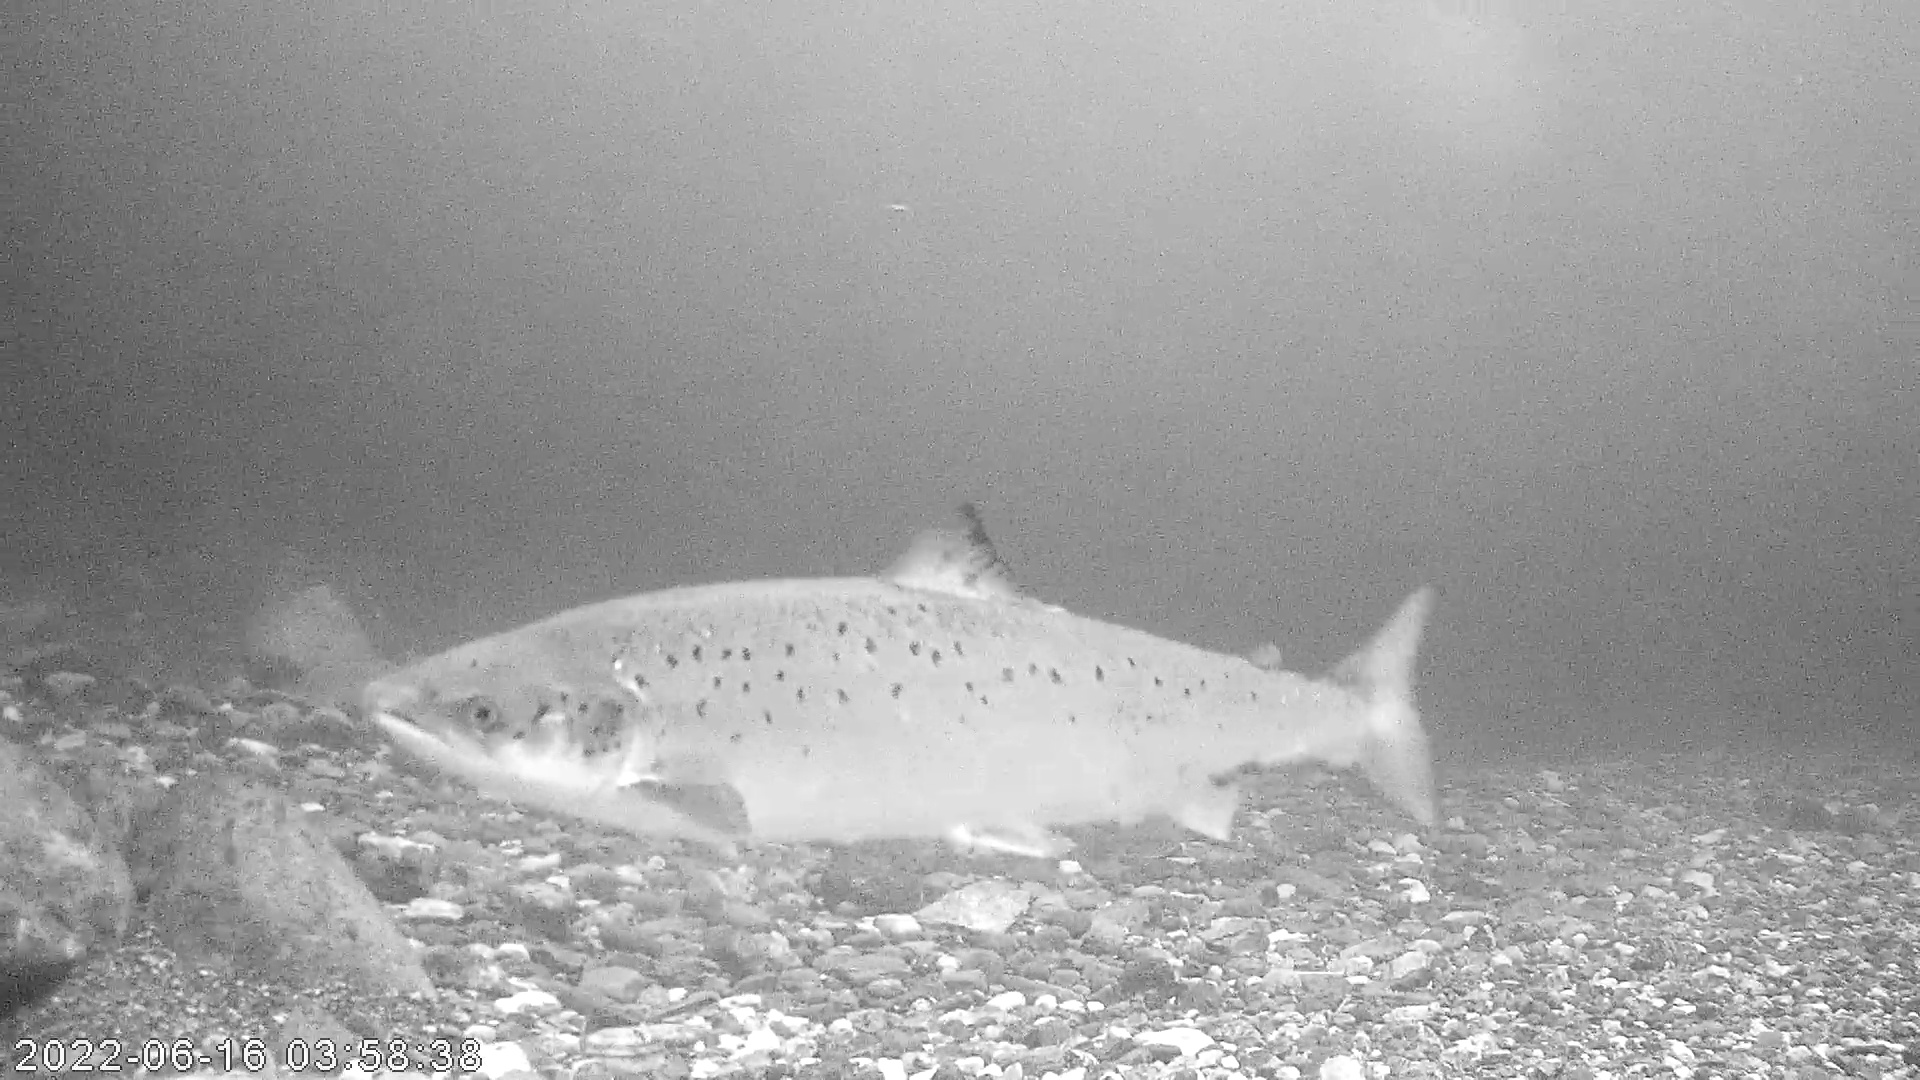salmon: (357, 501, 1448, 857)
